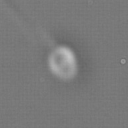normal: (1, 1, 53, 49)
